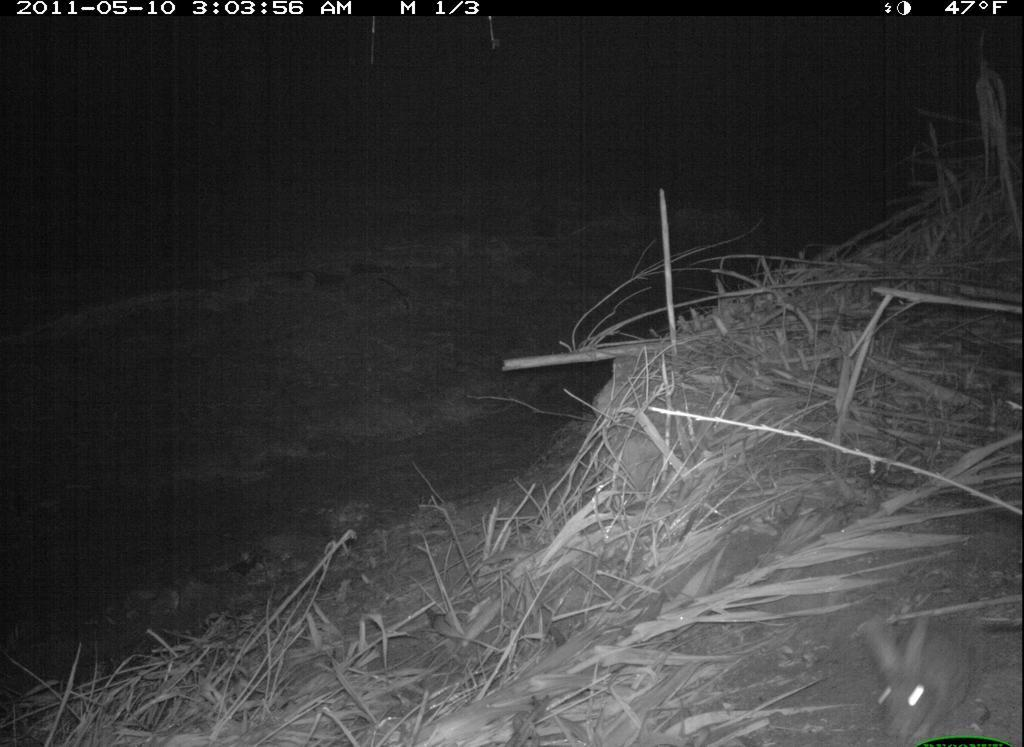rabbit: (847, 597, 993, 745)
